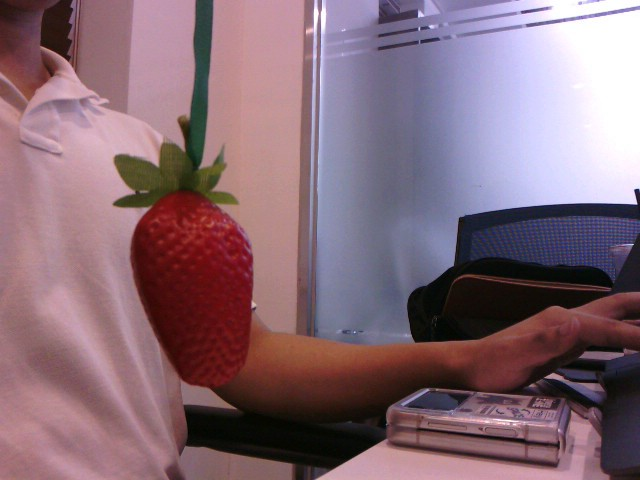strawberry: (118, 179, 257, 394)
